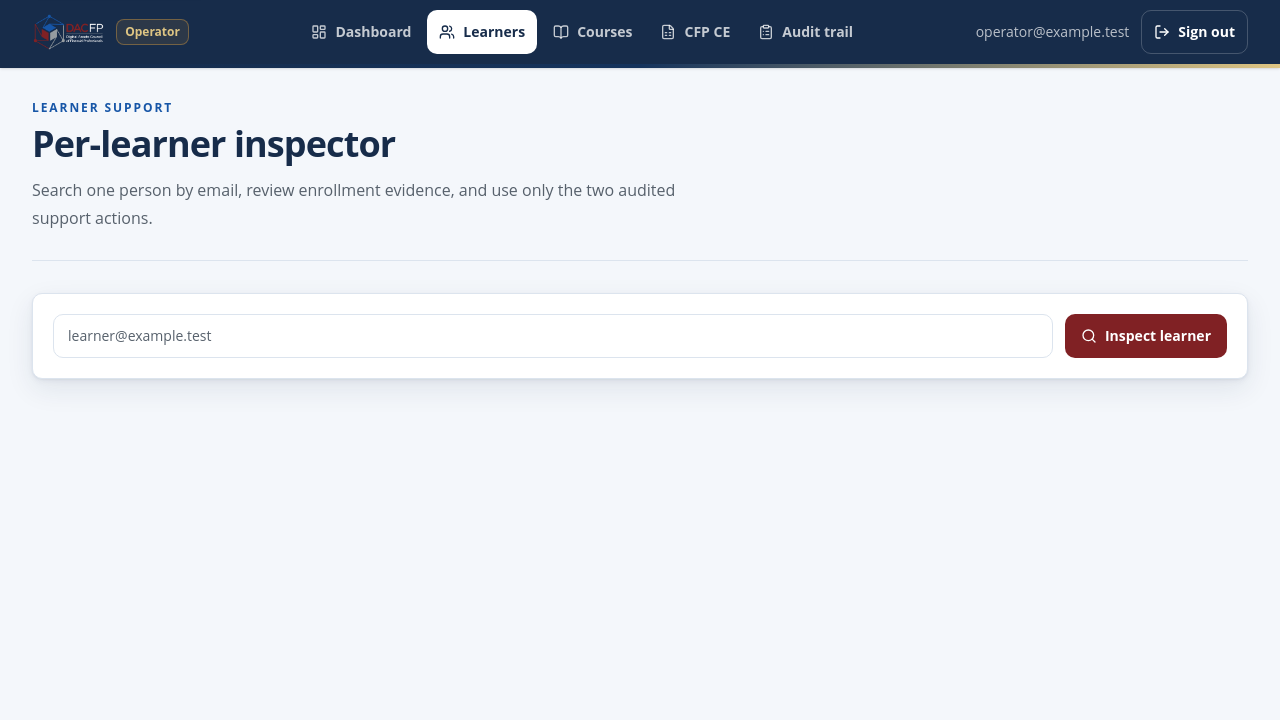
Test: Admin inspector — brief #21 (no JSON dumps) › renders credential IDs as labelled fields, not a JSON block
This screenshot has width=1280, height=720.
Type "jordan@example.test" into the field named "Learner email".
click(553, 336); type("jordan@example.test")  # box [53, 314, 1053, 358]
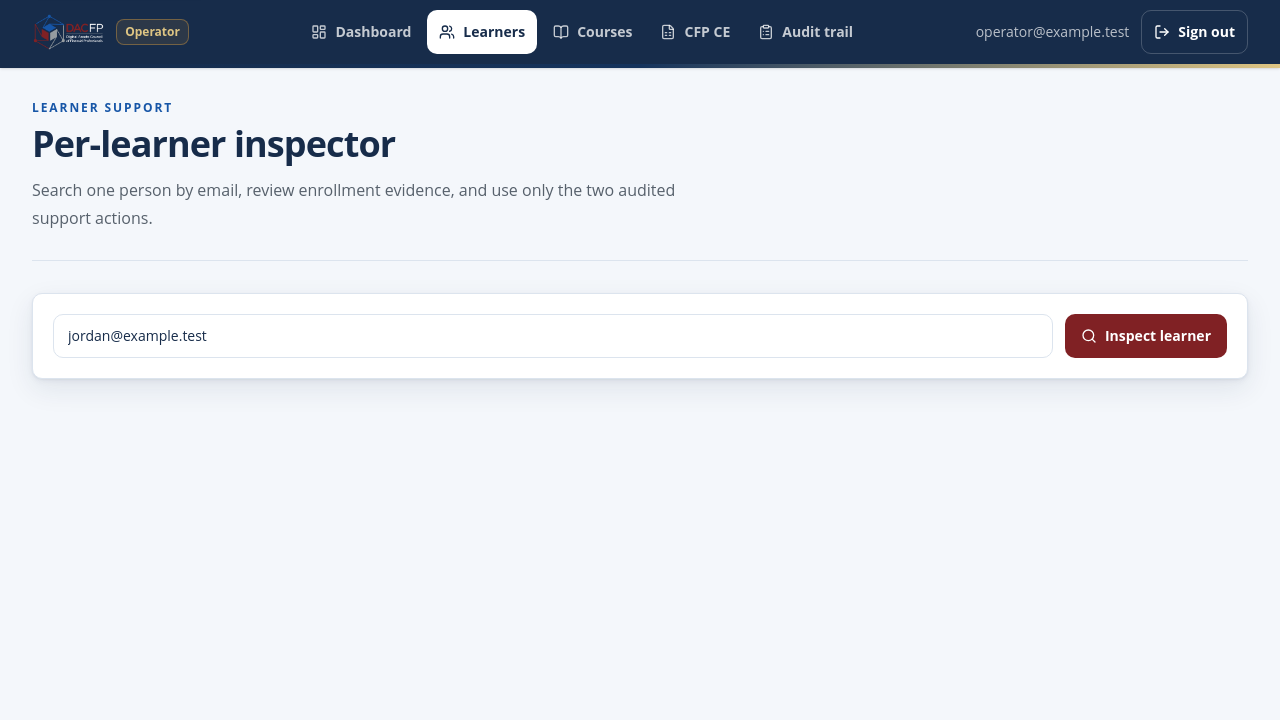
Click the button "Inspect learner".
click(1146, 336)  # box [1065, 314, 1227, 358]
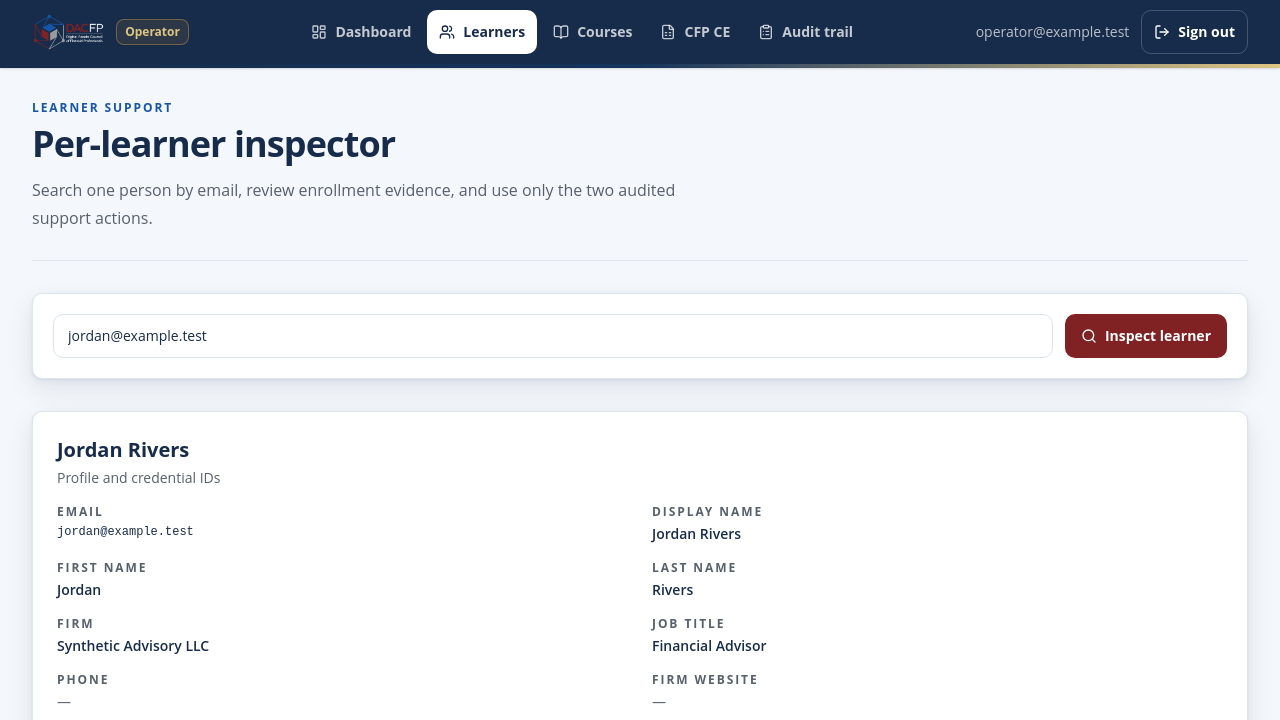
Check: the text "Jordan" is shown, box [57, 580, 101, 599]
Check: the text "Rivers" is shown, box [652, 580, 693, 599]
Check: the text "Synthetic Advisory LLC" is shown, box [57, 636, 209, 655]
